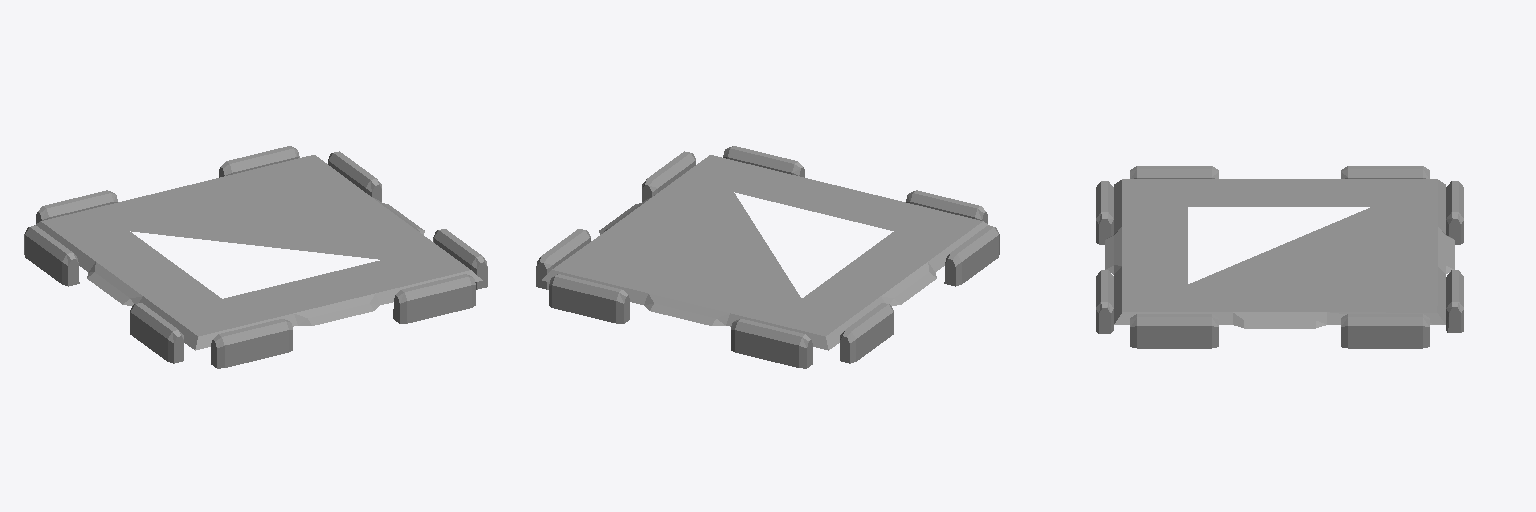
File: Component_No_Stand_Cut.obj
The picture shows the model from 3 angles: view 1: azimuth 30°, elevation 25°; view 2: azimuth 150°, elevation 25°; view 3: azimuth 270°, elevation 25°; orthographic projection.
Parts seen in each view (by area): view 1: ModelComponent; view 2: ModelComponent; view 3: ModelComponent.
Boxes of the visible parts, box(x1,y1,x2,y2) form: ModelComponent: box(24, 146, 487, 368); ModelComponent: box(536, 146, 999, 368); ModelComponent: box(1096, 166, 1463, 348).
Bounding box in the file's own units: 2 × 0.1761 × 2.